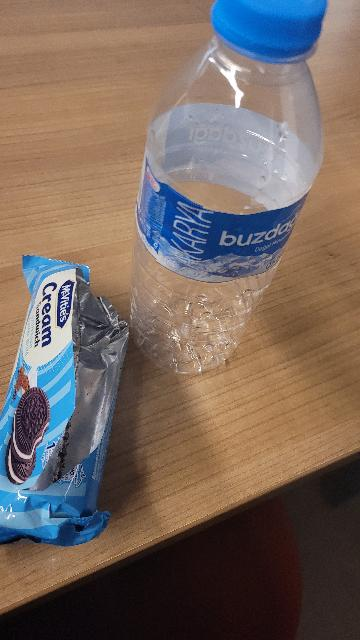Plastik: (121, 0, 326, 379), (0, 233, 136, 549)
